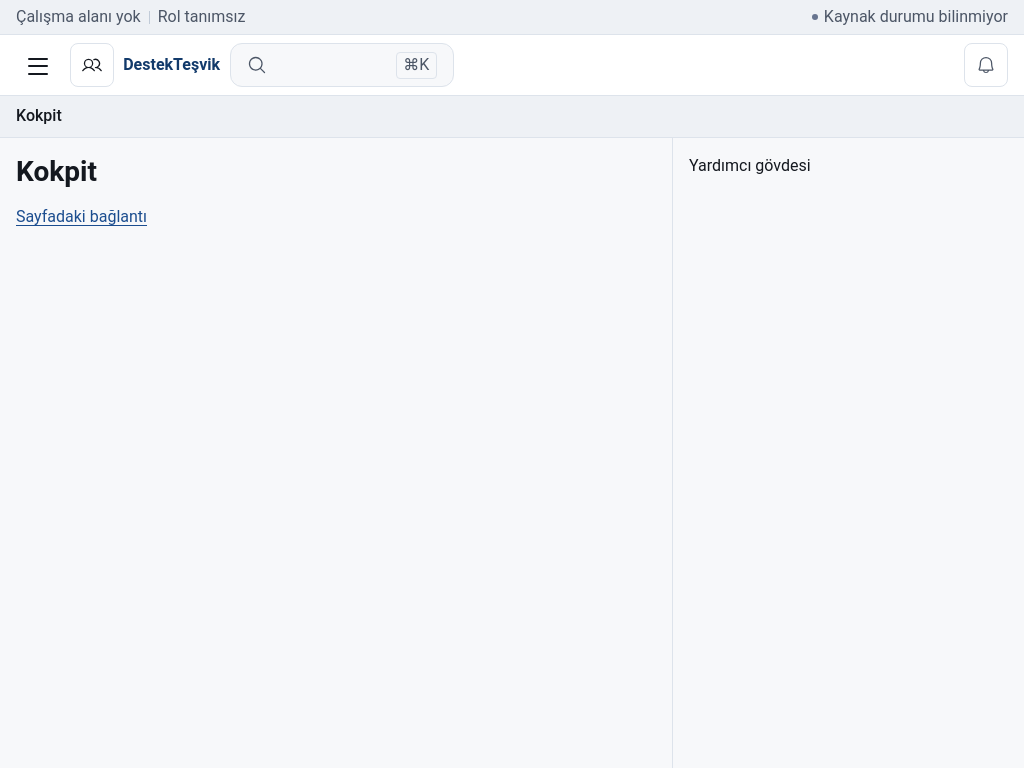
Test case: the mobile navigation lives behind the shared adaptive drawer › puts the page back in the accessibility tree once the drawer closes
The image size is (1024, 768).
Click the button named "Menü": x=38, y=65 [16,43,60,87]
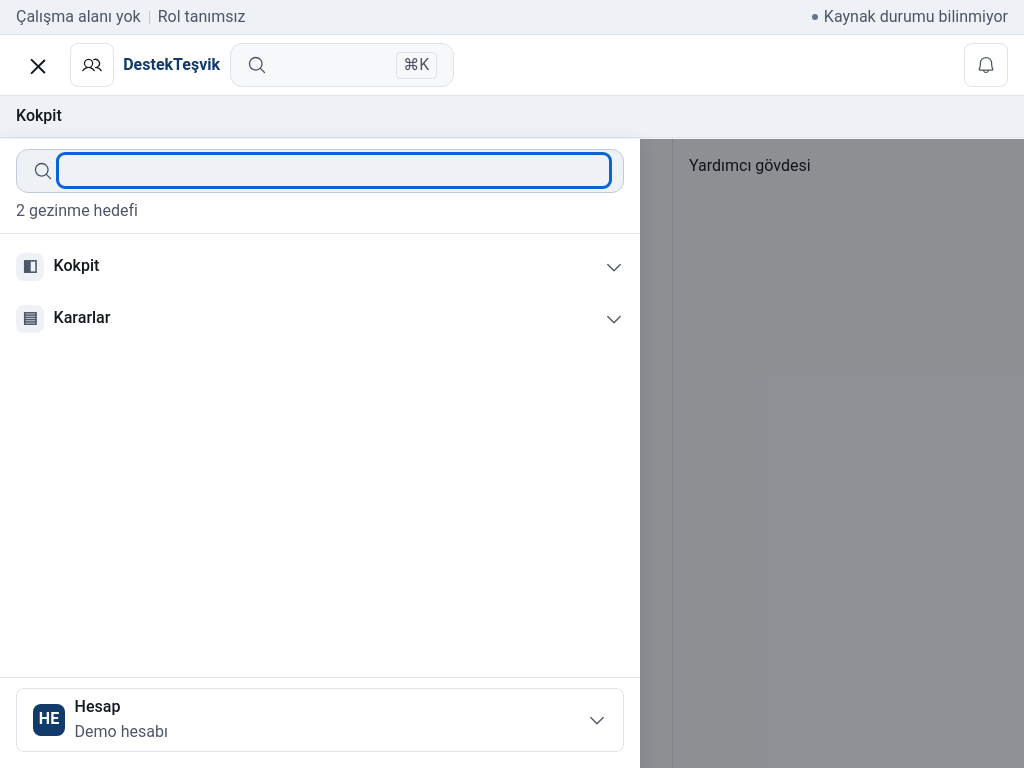
Result: the dialog is shown at [0,139,640,767]
Press Escape
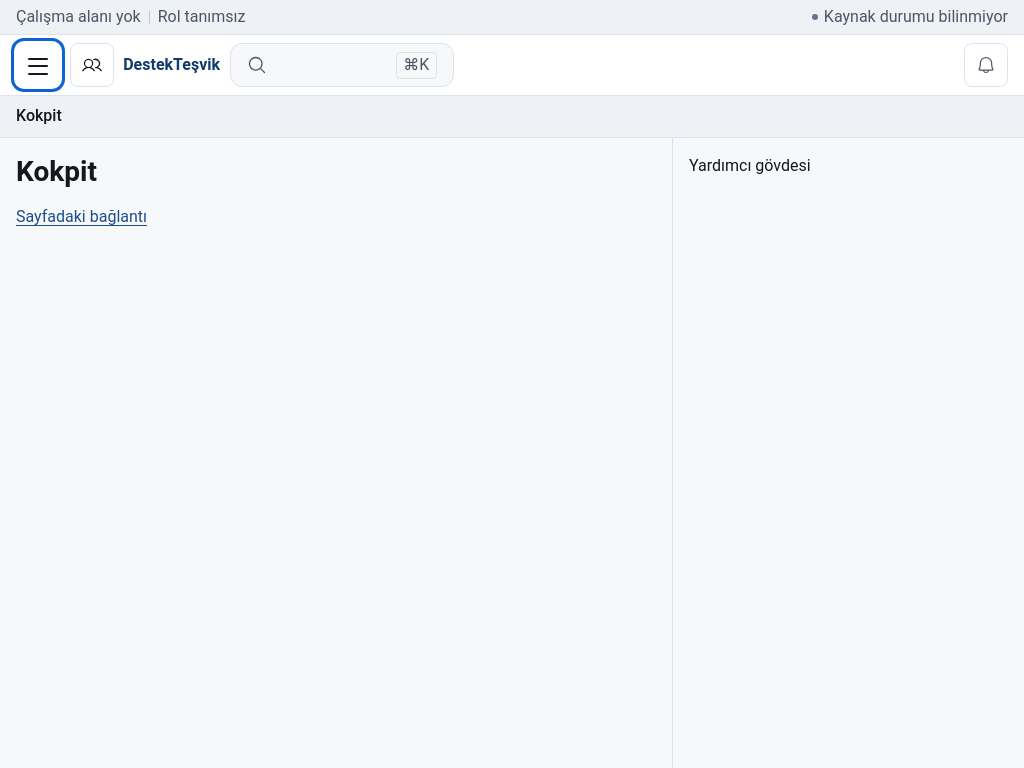
Result: the dialog is gone
